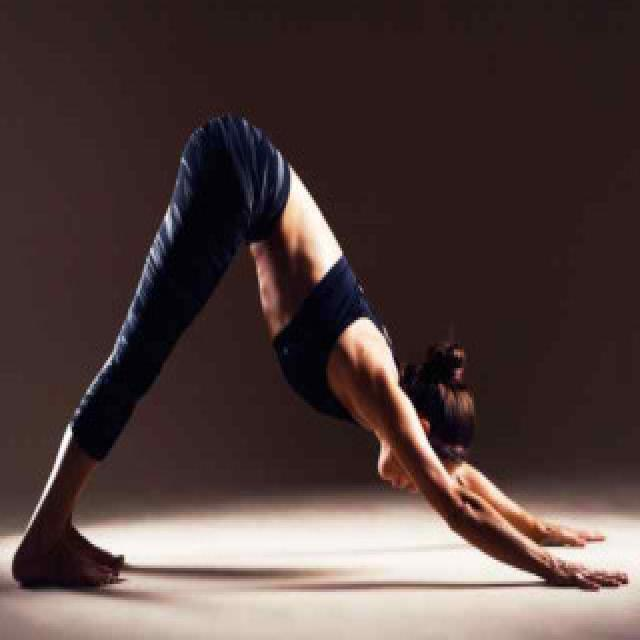yoga-pose downward: (7, 110, 602, 600)
